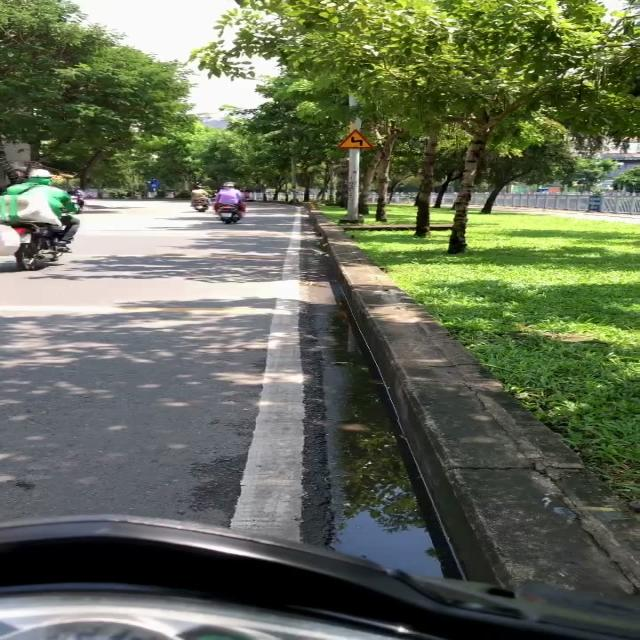Bien bao nhieu cho ngoat nguy hiem lien tiep: (330, 126, 376, 150)
